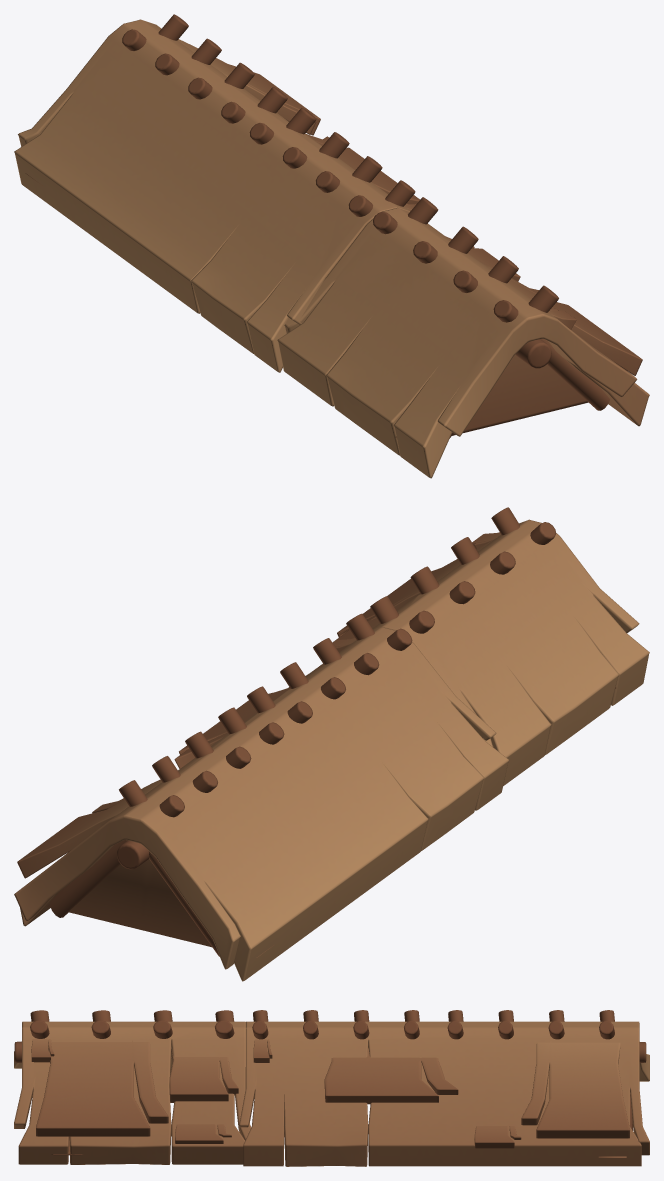
File: SM_Clay_Roof_05.fbx
3 views of the same model, one above another, from view 1: azimuth 30°, elevation 25°; view 2: azimuth 150°, elevation 25°; view 3: azimuth 270°, elevation 25° (orthographic). The views are drawn at different scales.
Parts seen in each view (by area): view 1: SM_Clay_Roof_05; view 2: SM_Clay_Roof_05; view 3: SM_Clay_Roof_05.
Part boxes in pixels (x1,y1,x2,y2): SM_Clay_Roof_05: [14, 14, 649, 478]; SM_Clay_Roof_05: [14, 507, 649, 981]; SM_Clay_Roof_05: [14, 1010, 649, 1166].
Bounding box in the file's own units: 1.05 × 0.6441 × 3.15.
Materials: 1 (1 with a texture image).
